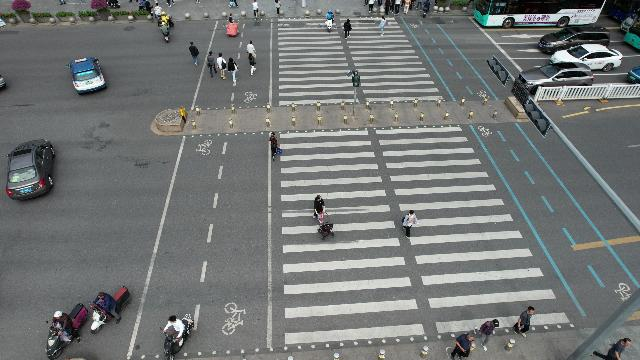non-motor-vehicle: (154, 313, 202, 359), (47, 302, 89, 342), (94, 286, 130, 318), (158, 11, 175, 29), (326, 8, 336, 36), (160, 22, 172, 44), (138, 1, 154, 11), (422, 0, 430, 16), (154, 4, 162, 18), (228, 1, 240, 8)
person: (310, 195, 340, 240), (514, 304, 540, 342), (400, 210, 426, 246), (476, 320, 500, 348), (266, 132, 284, 162), (455, 333, 475, 359), (226, 12, 242, 40), (614, 338, 634, 360), (204, 50, 216, 80), (216, 52, 227, 82), (185, 41, 199, 63), (228, 57, 240, 82), (246, 54, 258, 76), (378, 15, 388, 39), (343, 18, 352, 38), (247, 40, 257, 57), (382, 1, 392, 16), (250, 0, 260, 14), (502, 17, 514, 28), (366, 1, 374, 14), (404, 0, 410, 16), (395, 0, 401, 14), (276, 1, 282, 14), (417, 2, 423, 12), (391, 0, 395, 14)
